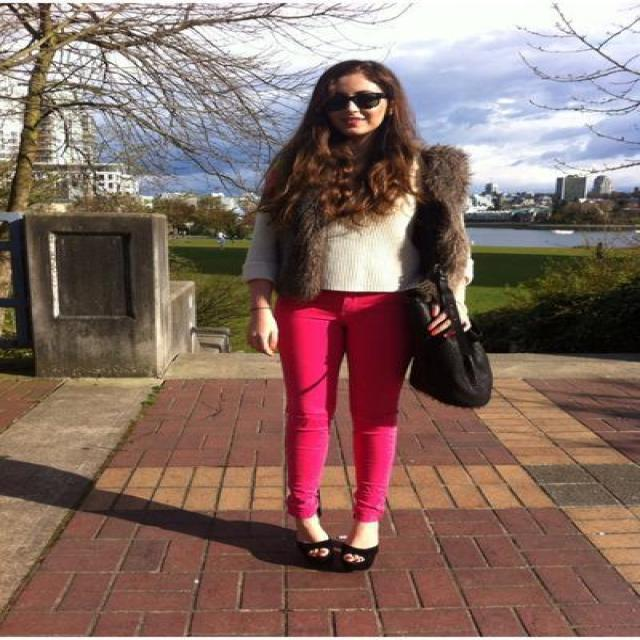bag: (397, 277, 510, 408)
jacket: (264, 145, 472, 299)
pants: (274, 288, 435, 524)
shirt: (226, 195, 414, 298)
shoe: (280, 525, 376, 572)
